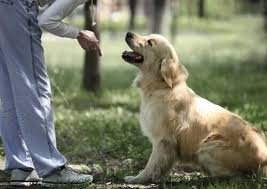dog_sitting: (119, 31, 267, 184)
